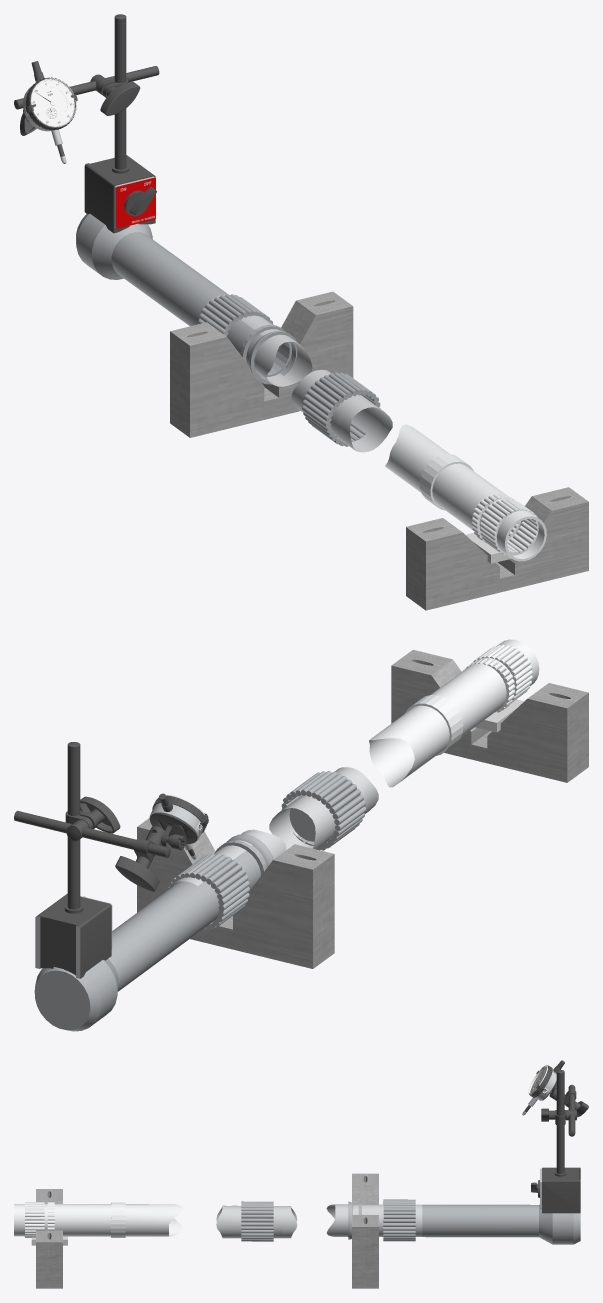
3 views of the same model, one above another, from view 1: azimuth 30°, elevation 25°; view 2: azimuth 150°, elevation 25°; view 3: azimuth 270°, elevation 25° (orthographic). The views are drawn at different scales.
Parts seen in each view (by area): view 1: v block, 1, v block.001, Dial Indicators-01, 7, 6.002; view 2: 1, Dial Indicators-01, v block, v block.001, 7, 6.002, Cube; view 3: 1, 7, Dial Indicators-01, v block, 6.002, v block.001.
Part boxes in pixels (x1,y1,x2,y2): v block: [170, 291, 353, 437]; 1: [76, 213, 312, 386]; v block.001: [406, 487, 588, 610]; Dial Indicators-01: [14, 14, 159, 233]; 7: [385, 424, 546, 561]; 6.002: [291, 369, 392, 452]; 1: [34, 829, 286, 1031]; Dial Indicators-01: [14, 742, 208, 978]; v block: [137, 818, 334, 968]; v block.001: [391, 649, 588, 782]; 7: [369, 639, 539, 787]; 6.002: [269, 767, 378, 850]; Cube: [475, 699, 523, 732]; 1: [326, 1199, 580, 1244]; 7: [14, 1202, 183, 1237]; Dial Indicators-01: [522, 1060, 588, 1213]; v block: [352, 1173, 378, 1288]; 6.002: [216, 1201, 297, 1241]; v block.001: [36, 1189, 62, 1288].
Size of the model in its own units: 108 by 160 by 432.
Materials: 13 (5 with a texture image).
